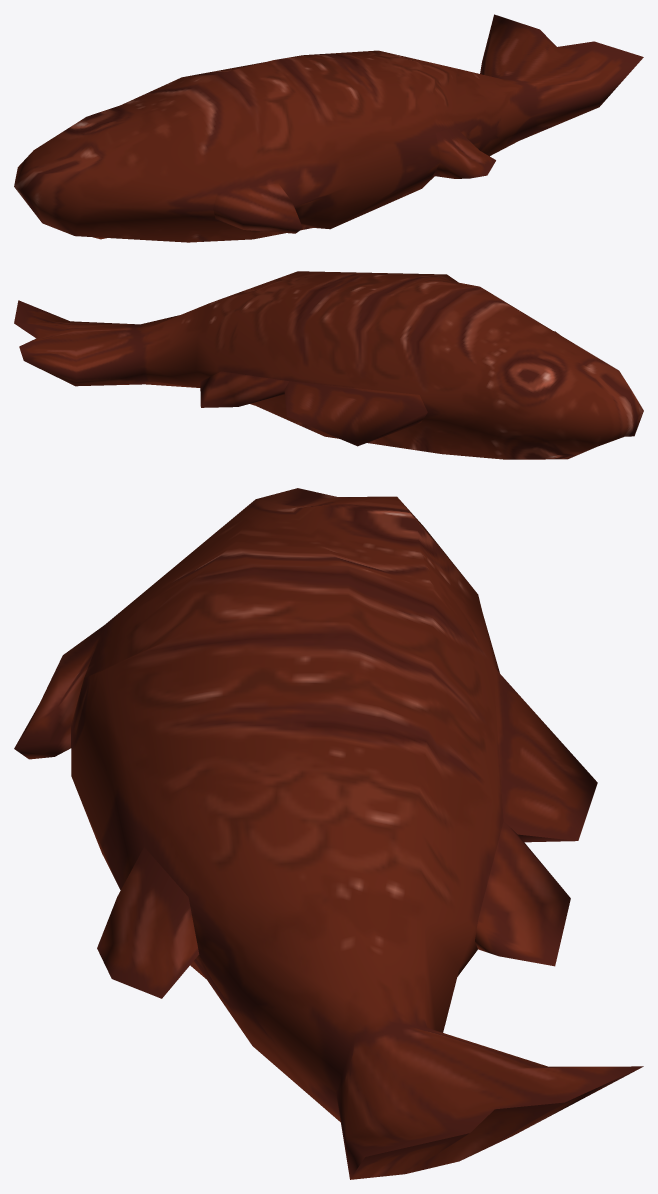
The model's file is SM_PROP_fish_interior.fbx.
3 renders of one model, top to bottom at view 1: azimuth 30°, elevation 25°; view 2: azimuth 150°, elevation 25°; view 3: azimuth 270°, elevation 25°, orthographic. The views are drawn at different scales.
Parts seen in each view (by area): view 1: SM_PROP_fish_interior; view 2: SM_PROP_fish_interior; view 3: SM_PROP_fish_interior.
Boxes of the visible parts, x1,y1,x2,y2 form: SM_PROP_fish_interior: (14, 14, 643, 242); SM_PROP_fish_interior: (14, 271, 643, 459); SM_PROP_fish_interior: (14, 488, 643, 1179).
Bounding box in the file's own units: 55.61 × 12.22 × 24.84.
